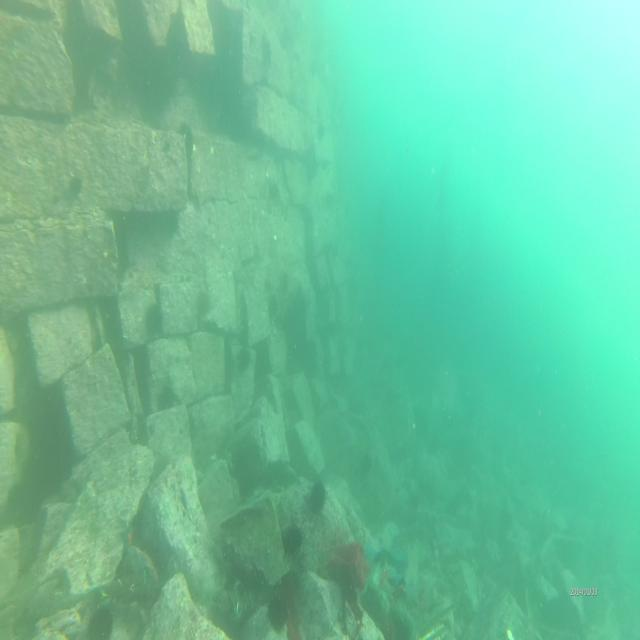echinus: (84, 599, 116, 640), (264, 590, 291, 633), (279, 522, 305, 562), (155, 379, 181, 415), (144, 297, 164, 343), (308, 476, 328, 520), (234, 344, 254, 379), (196, 283, 212, 320), (264, 182, 282, 211), (68, 170, 82, 204), (275, 269, 291, 298), (268, 289, 280, 320), (260, 33, 272, 64), (316, 117, 327, 144), (324, 192, 334, 212)
